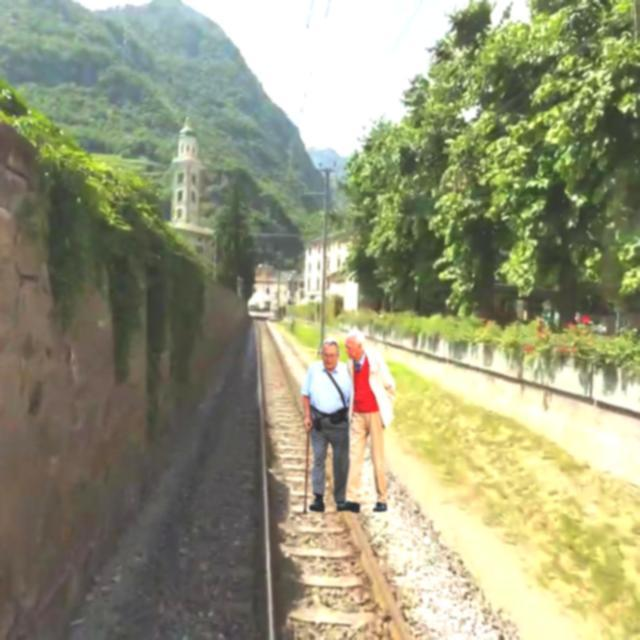danger: (277, 319, 412, 521)
rail: (227, 318, 444, 640)
